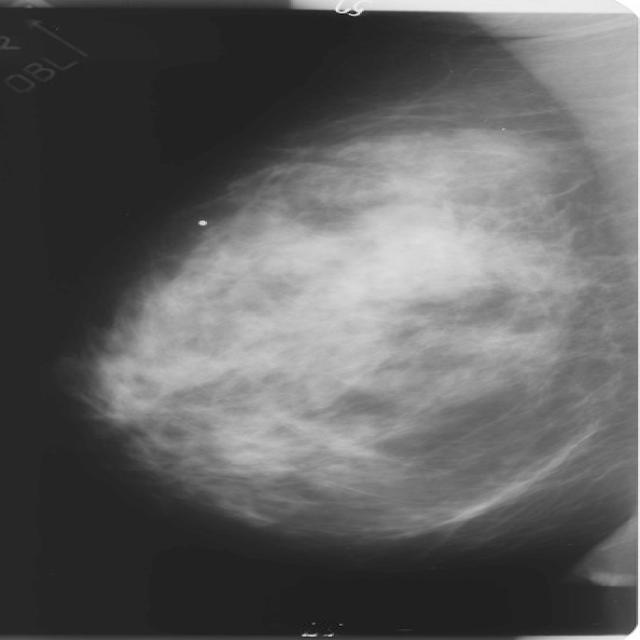tumour: (360, 206, 487, 296)
